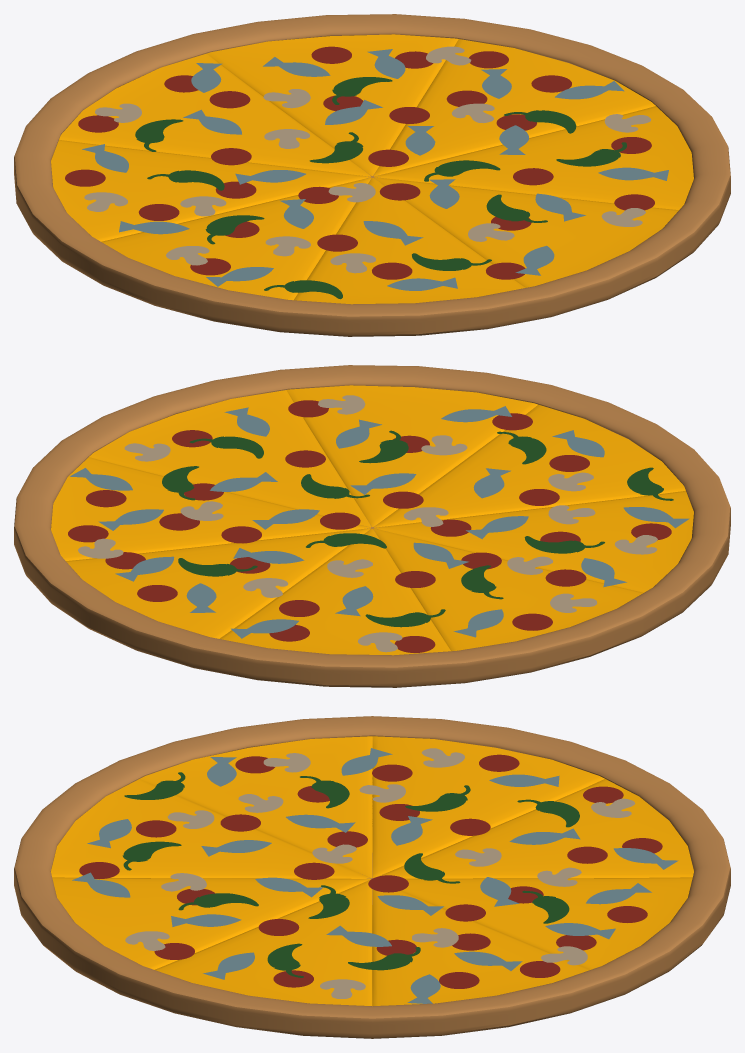
File: Pizza (1).fbx
The picture shows the model from 3 angles, top to bottom: view 1: azimuth 30°, elevation 25°; view 2: azimuth 150°, elevation 25°; view 3: azimuth 270°, elevation 25°; orthographic projection.
Visible parts, largest first — view 1: Pizza, Pepperoni, Sardines, Mushrooms, Jalapenos; view 2: Pizza, Pepperoni, Sardines, Mushrooms, Jalapenos; view 3: Pizza, Pepperoni, Sardines, Mushrooms, Jalapenos.
Boxes of the visible parts, x1,y1,x2,y2 form: Pizza: (14,14,730,336); Pepperoni: (65,46,654,279); Sardines: (82,49,668,290); Mushrooms: (84,46,651,273); Jalapenos: (135,77,626,299); Pizza: (14,365,730,687); Pepperoni: (68,400,671,652); Sardines: (70,406,689,638); Mushrooms: (78,395,657,652); Jalapenos: (162,430,673,627); Pizza: (14,716,730,1038); Pepperoni: (79,754,662,988); Sardines: (72,748,678,1003); Mushrooms: (125,748,635,998); Jalapenos: (122,772,579,977).
Size of the model in its own units: 32.09 by 1.21 by 32.09.
